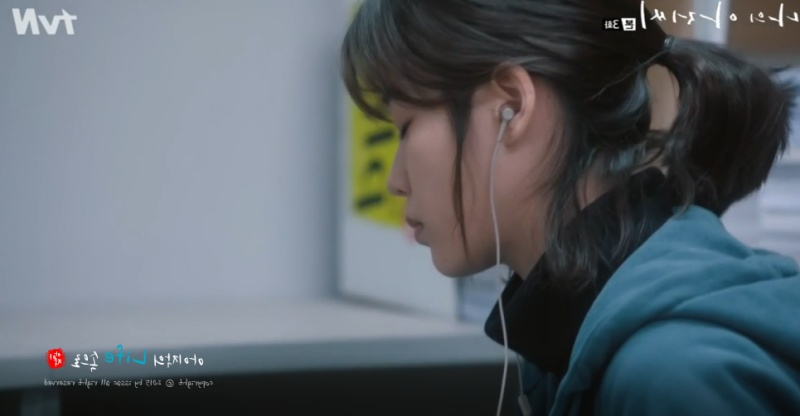earphone: (488, 61, 536, 147)
